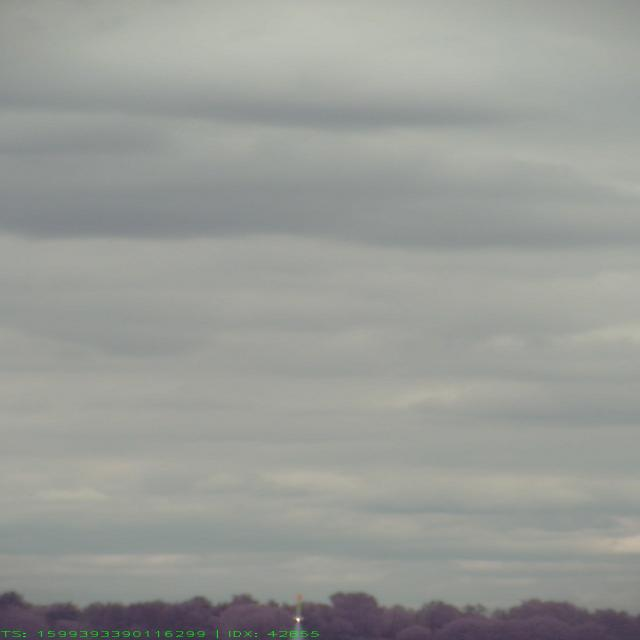Rocket: (293, 593, 303, 618)
